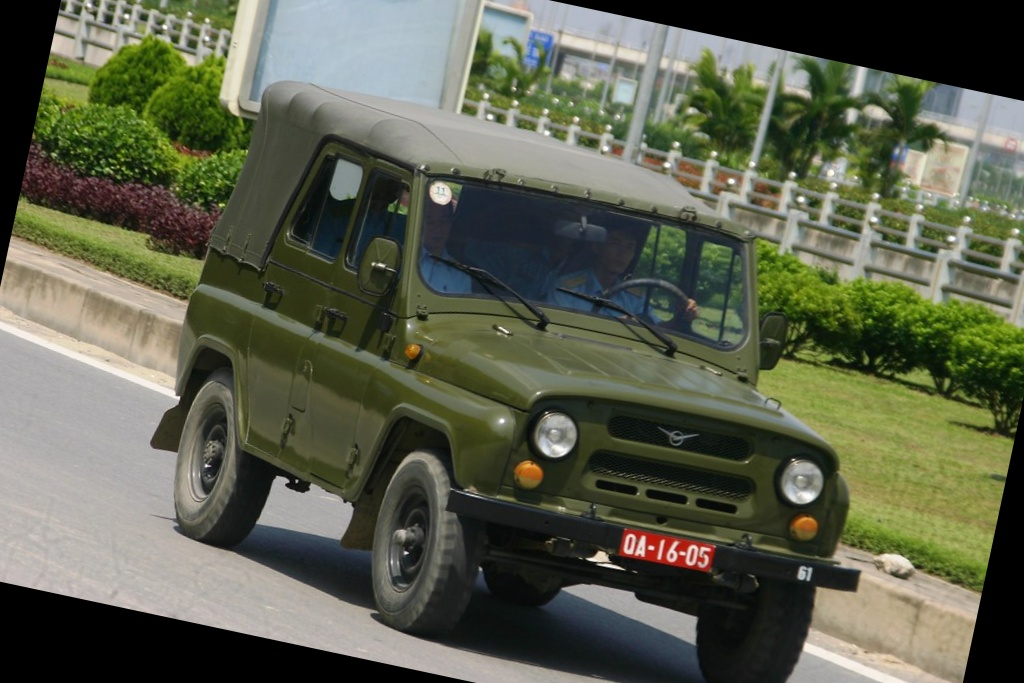plate: (620, 520, 719, 580)
